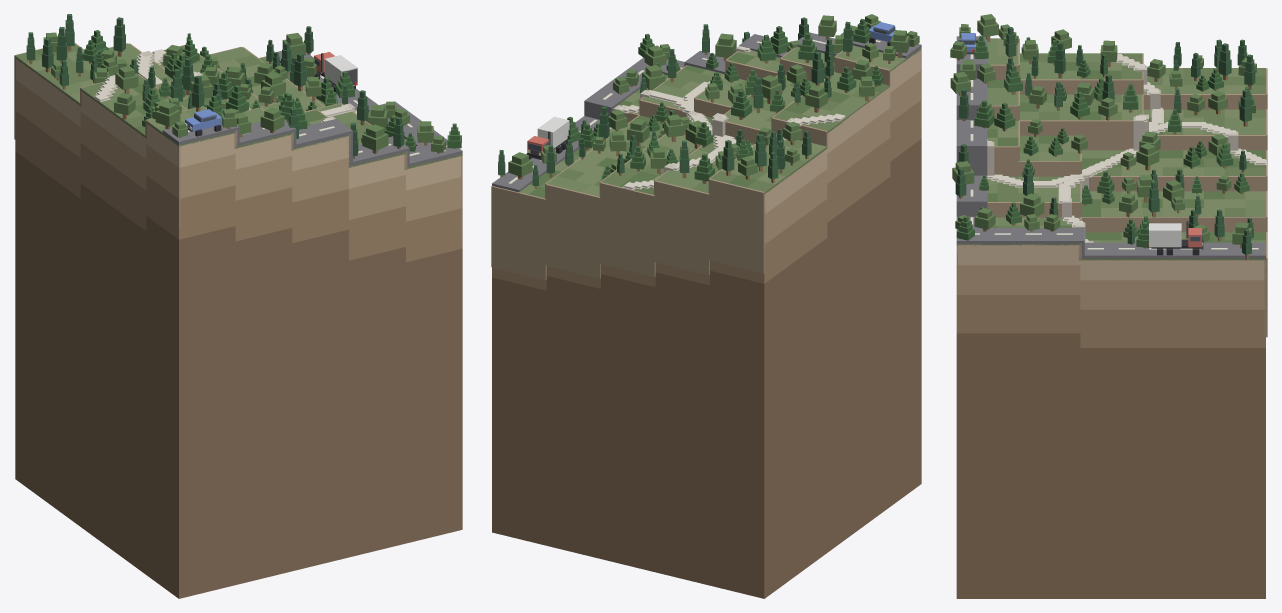
File: block_1_engineered_15.glb
3 views of the same model, side by side, from view 1: azimuth 30°, elevation 25°; view 2: azimuth 150°, elevation 25°; view 3: azimuth 270°, elevation 25° (orthographic). The views are drawn at different scales.
Visible parts, largest first — view 1: Patch_UpperLeft_b02_ES, Ghats_UpperLeft_b02_ES, Roads_UpperLeft_b02_ES, ULCar_009_ES, ULCar_000_ES; view 2: Patch_UpperLeft_b02_ES, Ghats_UpperLeft_b02_ES, Roads_UpperLeft_b02_ES, ULCar_009_ES; view 3: Patch_UpperLeft_b02_ES, Ghats_UpperLeft_b02_ES, Roads_UpperLeft_b02_ES, ULCar_009_ES, RoadMarks_UpperLeft_b02_ES, ULG_T064_ES, ULG_T091_ES, ULG_T001_ES.
Boxes of the visible parts, x1=… form: Patch_UpperLeft_b02_ES: x1=15, y1=58, x2=462, y2=598; Ghats_UpperLeft_b02_ES: x1=14, y1=43, x2=462, y2=237; Roads_UpperLeft_b02_ES: x1=162, y1=51, x2=462, y2=167; ULCar_009_ES: x1=314, y1=52, x2=357, y2=93; ULCar_000_ES: x1=185, y1=109, x2=221, y2=136; Patch_UpperLeft_b02_ES: x1=492, y1=50, x2=921, y2=598; Ghats_UpperLeft_b02_ES: x1=491, y1=45, x2=921, y2=280; Roads_UpperLeft_b02_ES: x1=492, y1=32, x2=921, y2=192; ULCar_009_ES: x1=526, y1=116, x2=569, y2=159; Patch_UpperLeft_b02_ES: x1=956, y1=244, x2=1265, y2=598; Ghats_UpperLeft_b02_ES: x1=957, y1=38, x2=1267, y2=337; Roads_UpperLeft_b02_ES: x1=956, y1=36, x2=1265, y2=259; ULCar_009_ES: x1=1148, y1=220, x2=1203, y2=255; RoadMarks_UpperLeft_b02_ES: x1=970, y1=54, x2=1258, y2=249; ULG_T064_ES: x1=1136, y1=143, x2=1159, y2=170; ULG_T091_ES: x1=1020, y1=193, x2=1044, y2=216; ULG_T001_ES: x1=977, y1=14, x2=998, y2=41.
Bounding box in the file's own units: 9.95 × 15.66 × 9.74.
